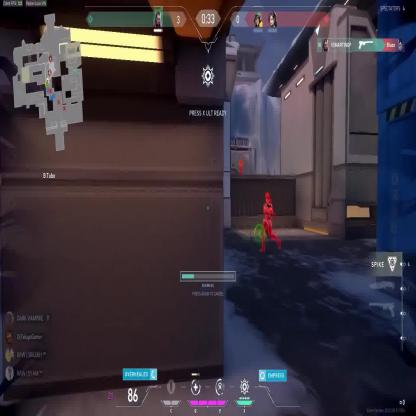enemy: (258, 190, 281, 254), (238, 156, 244, 178)
enemy_head: (265, 192, 271, 204), (240, 157, 241, 161)
